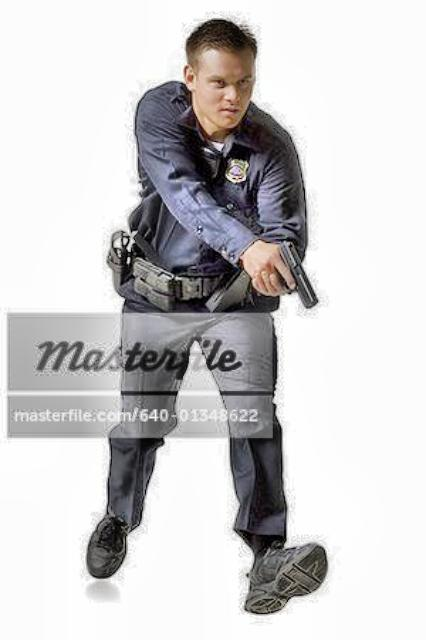pistol: (254, 232, 314, 310)
